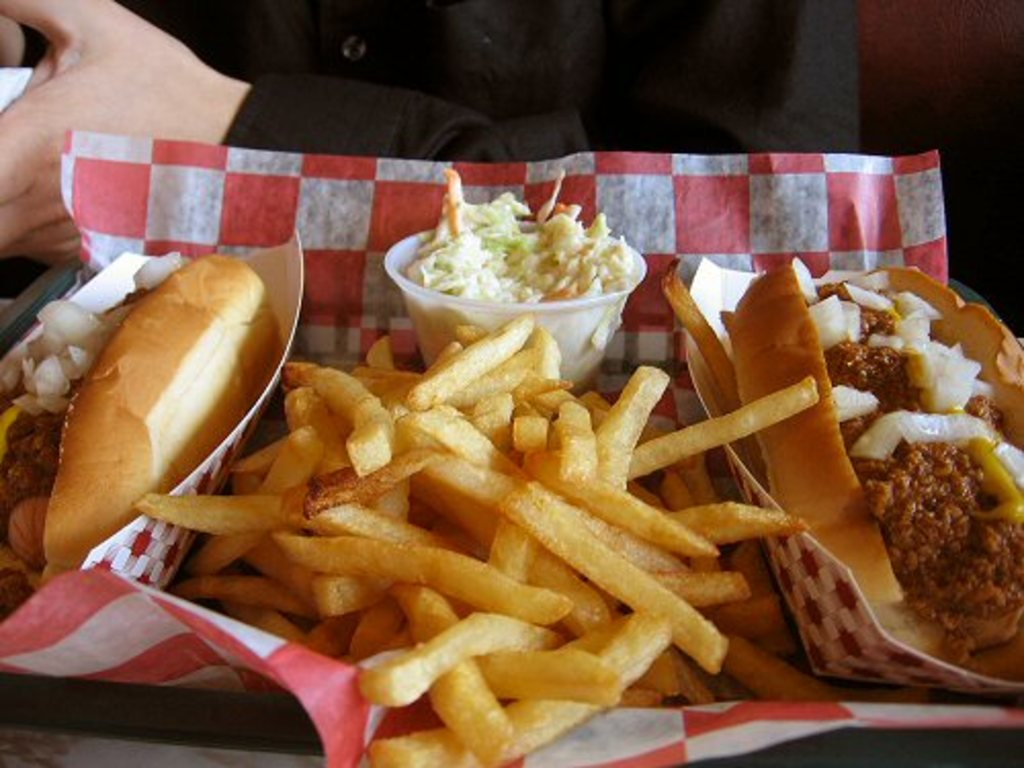French fries: (129, 317, 821, 765)
